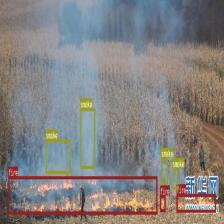fire: (8, 176, 157, 214), (176, 194, 216, 211), (160, 194, 165, 212)
smoke: (80, 108, 95, 168), (46, 139, 71, 173), (161, 157, 168, 183), (172, 168, 178, 188)
